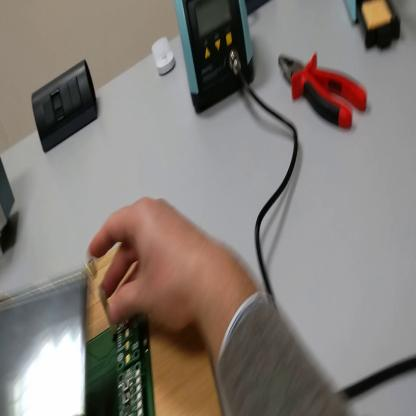hand: (90, 194, 210, 339)
low voltage board: (4, 259, 155, 412)
oscilloscope: (2, 162, 17, 246)
pliers: (279, 55, 368, 132)
socket: (249, 3, 269, 15)
welder base: (346, 4, 402, 58)
welder station: (176, 4, 256, 116)
working area: (87, 233, 220, 411)
